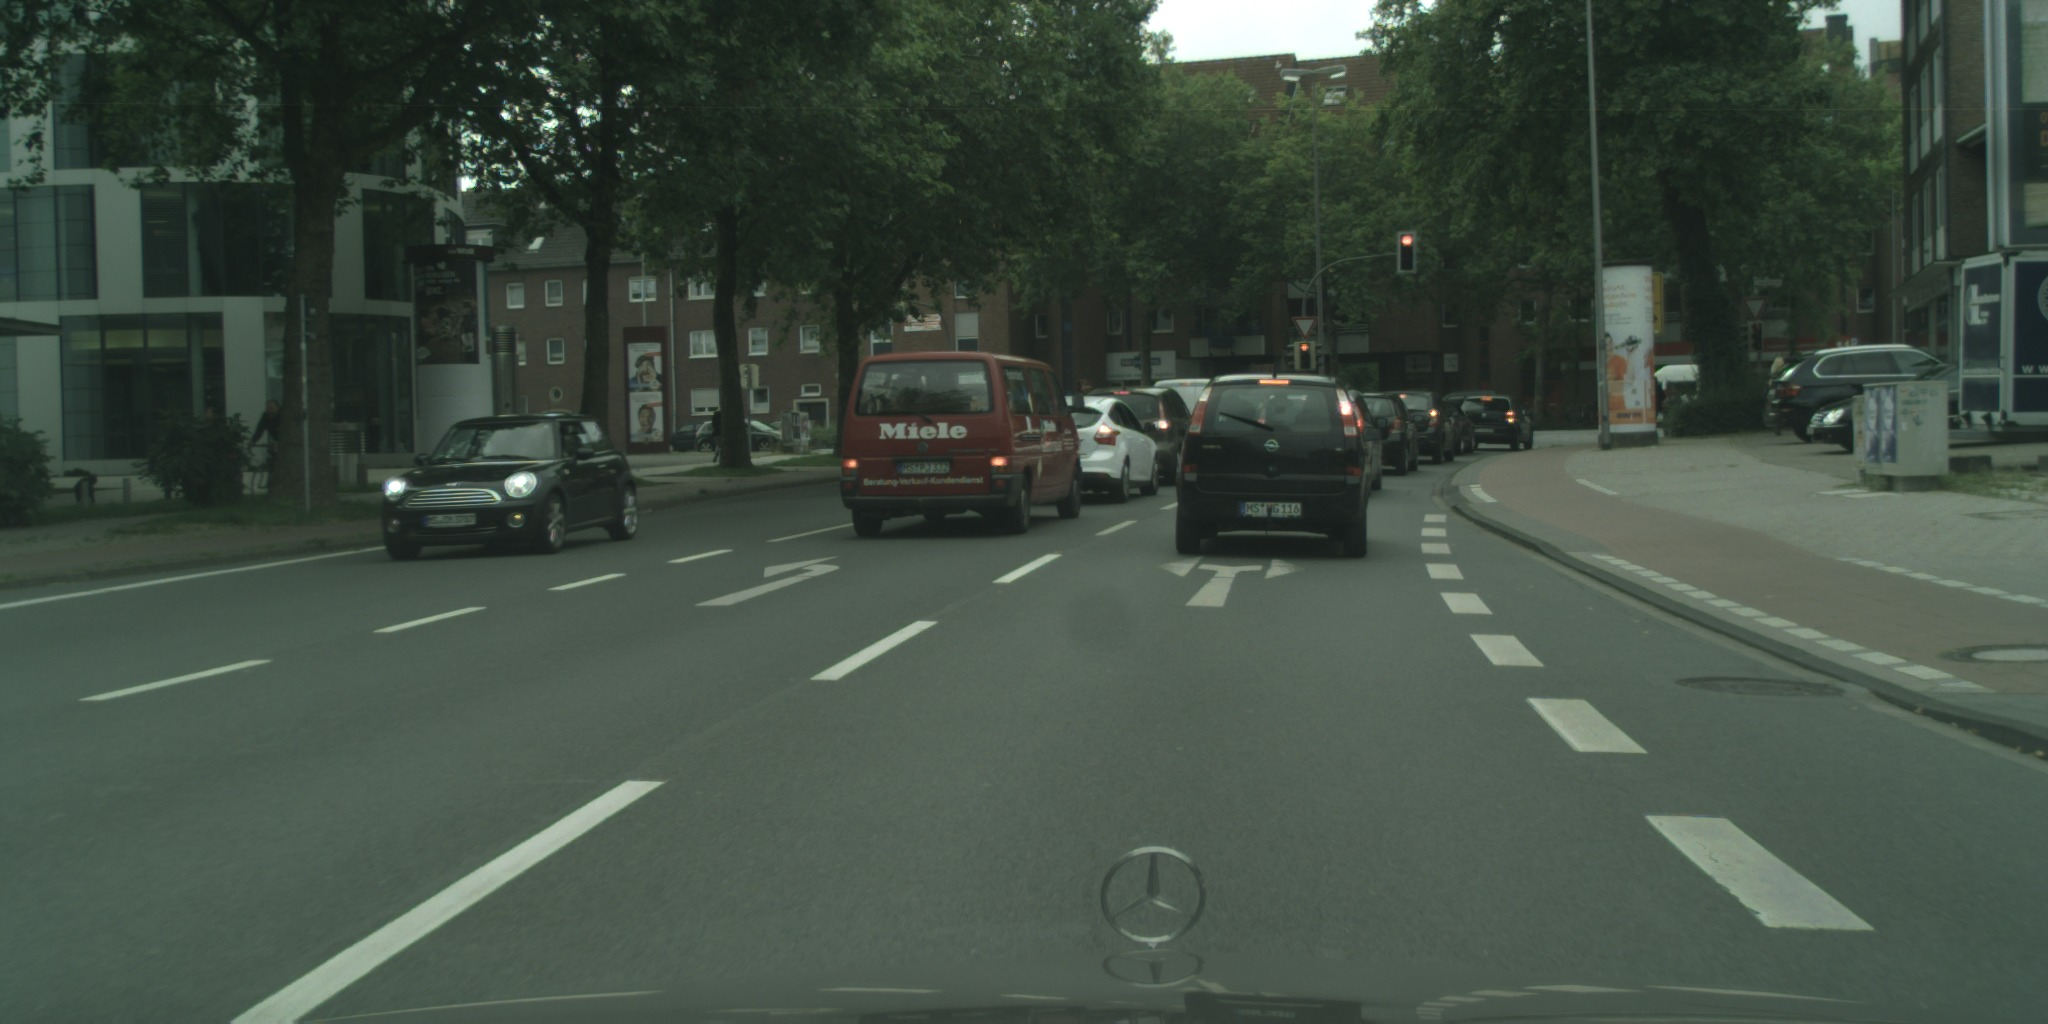bicycle: (246, 443, 286, 503)
car: (840, 352, 1085, 540), (382, 413, 638, 562), (1176, 374, 1382, 558), (1763, 343, 1949, 443), (1807, 359, 1971, 455), (1050, 395, 1160, 504), (1083, 386, 1201, 486), (1375, 391, 1455, 464), (1356, 393, 1423, 477), (1341, 384, 1388, 500), (1459, 394, 1534, 451), (1153, 378, 1220, 432), (694, 420, 788, 452), (1439, 402, 1475, 456), (1437, 391, 1500, 419), (661, 422, 706, 453), (766, 420, 790, 438)
person: (1769, 357, 1786, 436), (710, 404, 724, 462)
rider: (248, 398, 290, 449)
